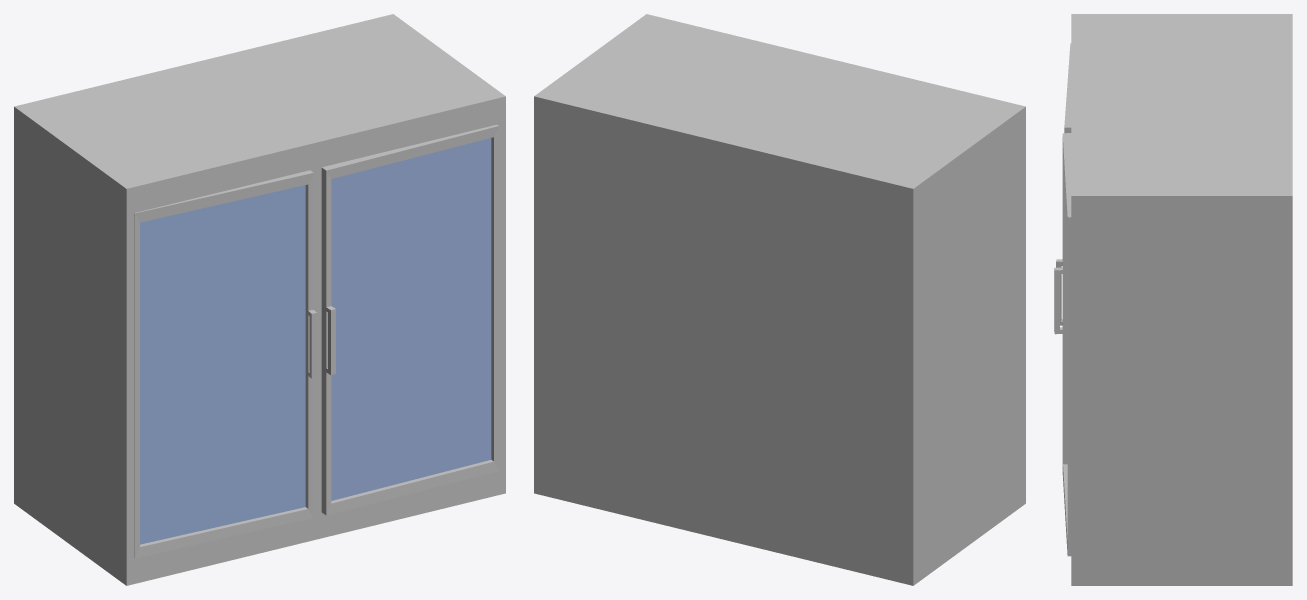
Rendered from SM_ShopFridge_02_A.gltf.
3 renders of one model, left to right at view 1: azimuth 30°, elevation 25°; view 2: azimuth 150°, elevation 25°; view 3: azimuth 270°, elevation 25°, orthographic.
Parts seen in each view (by area): view 1: ShopFridge_02_A, ShopFridgeDoor_02_A, ShopFridgeDoor_02_B; view 2: ShopFridge_02_A; view 3: ShopFridge_02_A, ShopFridgeDoor_02_B, ShopFridgeDoor_02_A.
Part boxes in pixels (box(x1,y1,x2,y2)): ShopFridge_02_A: box(14, 14, 505, 585); ShopFridgeDoor_02_A: box(134, 170, 317, 558); ShopFridgeDoor_02_B: box(321, 124, 499, 515); ShopFridge_02_A: box(534, 14, 1025, 585); ShopFridge_02_A: box(1071, 14, 1292, 585); ShopFridgeDoor_02_B: box(1054, 133, 1071, 556); ShopFridgeDoor_02_A: box(1056, 43, 1071, 325).
Bounding box in the file's own units: 2 × 2 × 1.11.
